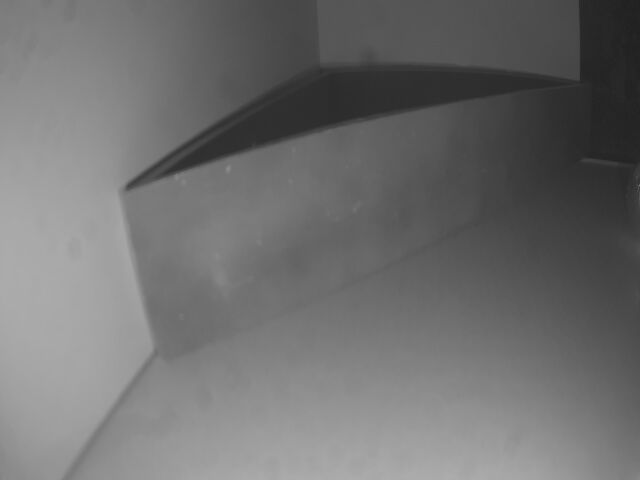Green: (120, 85, 592, 363)
Live: (625, 157, 640, 215)
